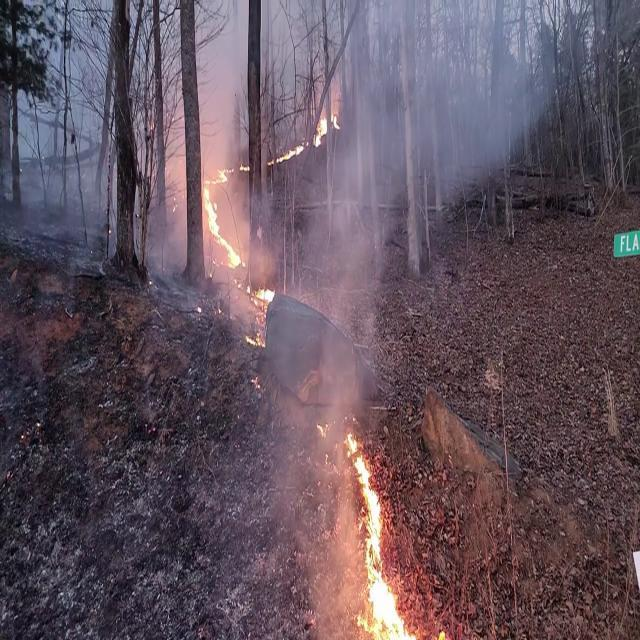Fire: (344, 423, 410, 638), (201, 161, 242, 269), (314, 102, 338, 148), (252, 278, 276, 318), (278, 137, 306, 163)
Smoke: (336, 1, 540, 228), (268, 182, 388, 524), (194, 2, 248, 169)
